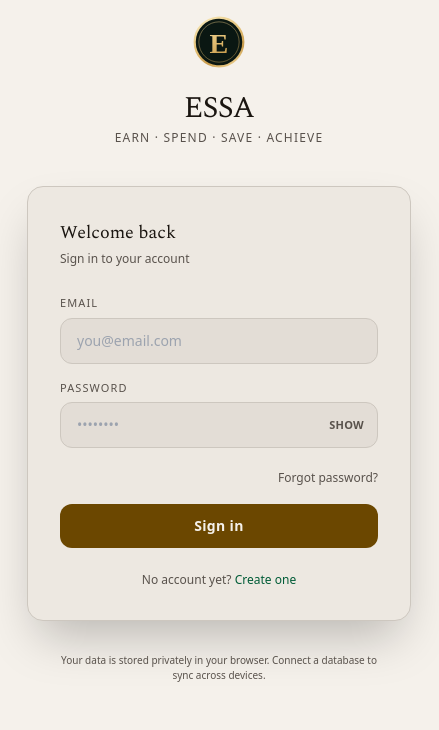
Test: an ordinary failure still shows its sentence on the form, with no prompt
Type "quartz@test.com" into the field labelled "Email" at [219, 340], box [60,318,378,364]
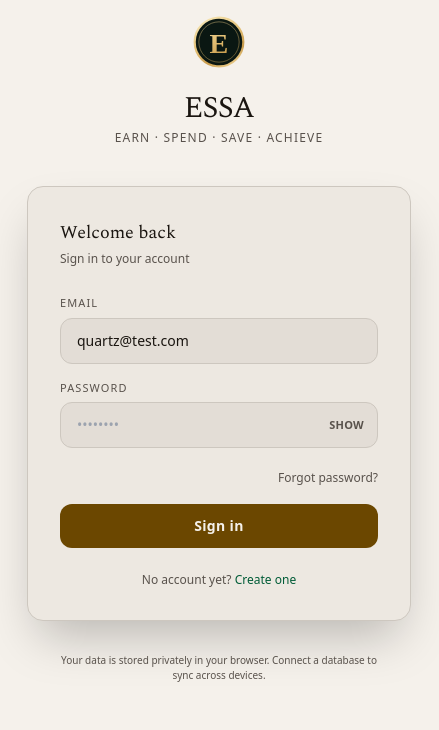
Type "typo-typo-1" into the password field labelled "Password" at [219, 425], box [60,402,378,448]
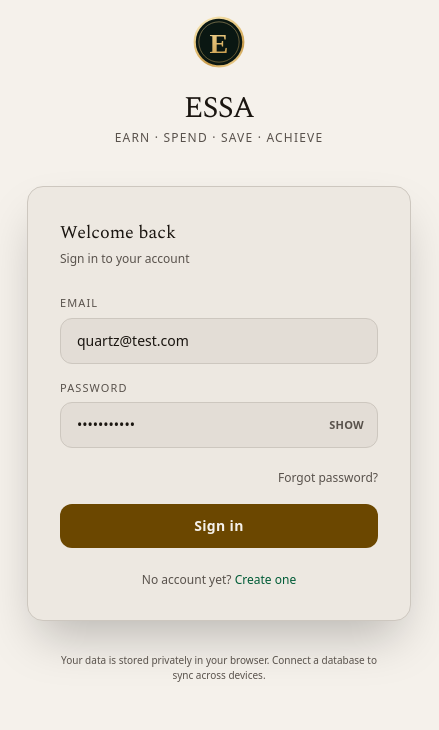
Click the button "Sign in" at [219, 526], box [60,504,378,548]
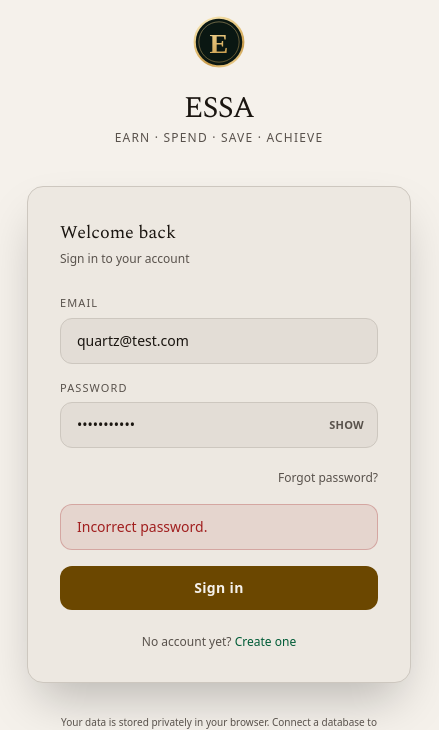
Expected: the text "Incorrect password." is shown, [60,504,378,550]
